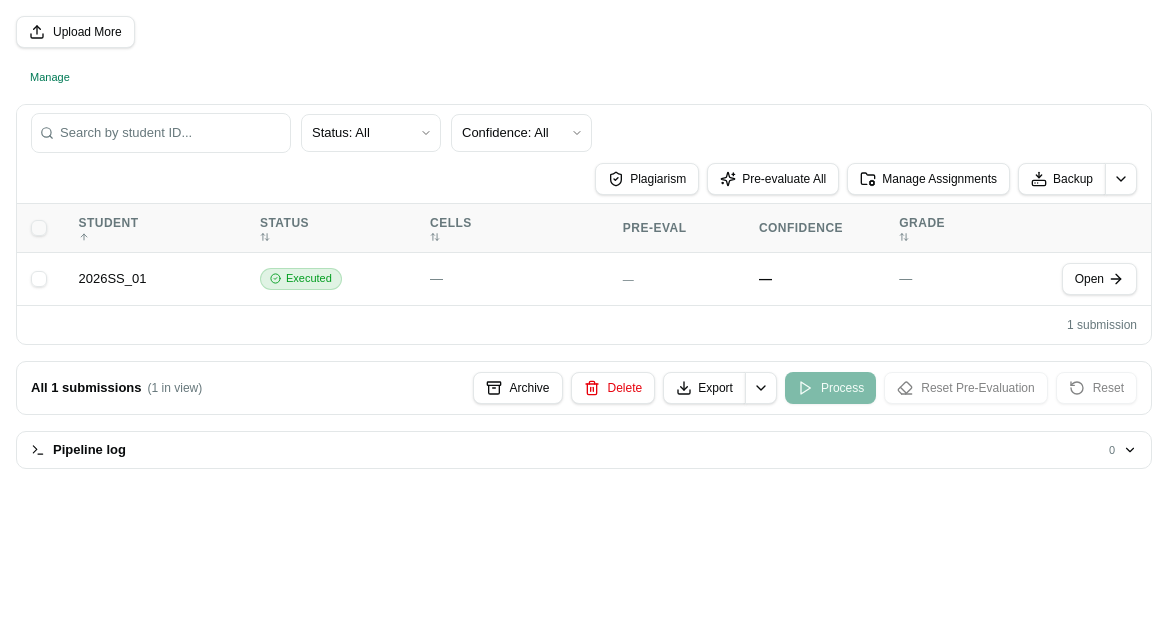
Test: submissions dashboard — pipeline progress bar › setRunSummary renders the completed pre-eval banner in the log panel (BUG-007)
This screenshot has width=1169, height=624.
Expected: the link "2026SS_01" is shown, 78,271 -> 146,286
Expected: the text "Pre-evaluation complete" is not shown
Click the button "Pipeline log 0" at (89, 450), box 17,432 -> 1151,468
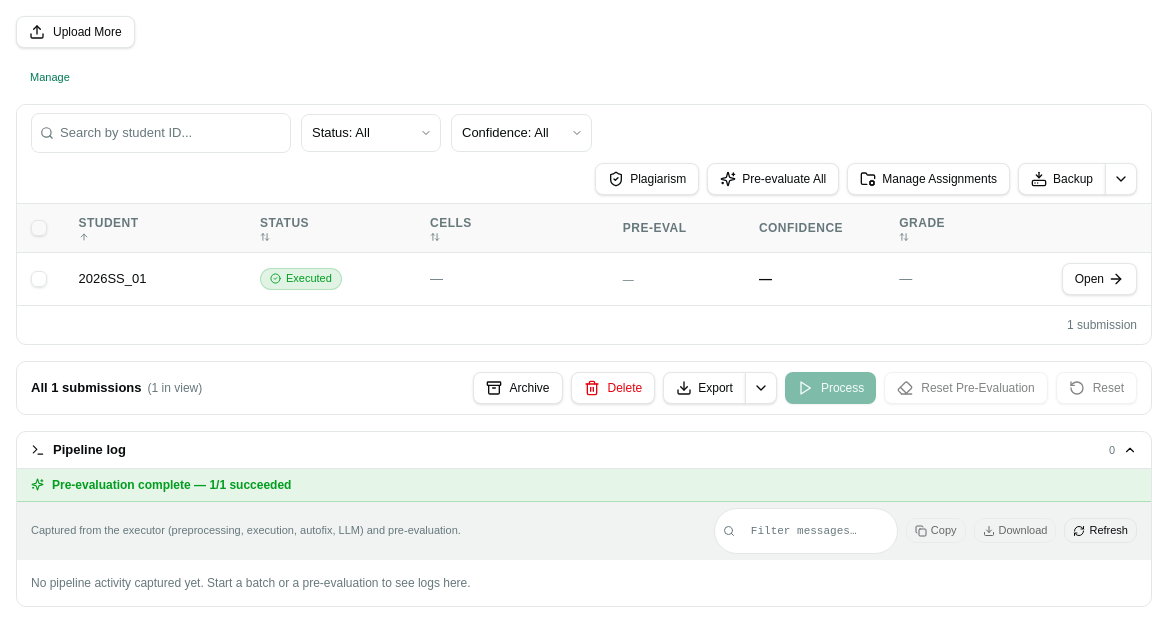
Expected: the message reads "Pre-evaluation complete — 1/1 succeeded", 52,478 -> 291,492
